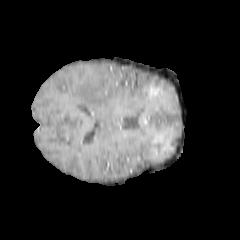glioma: (71, 79, 118, 109)
